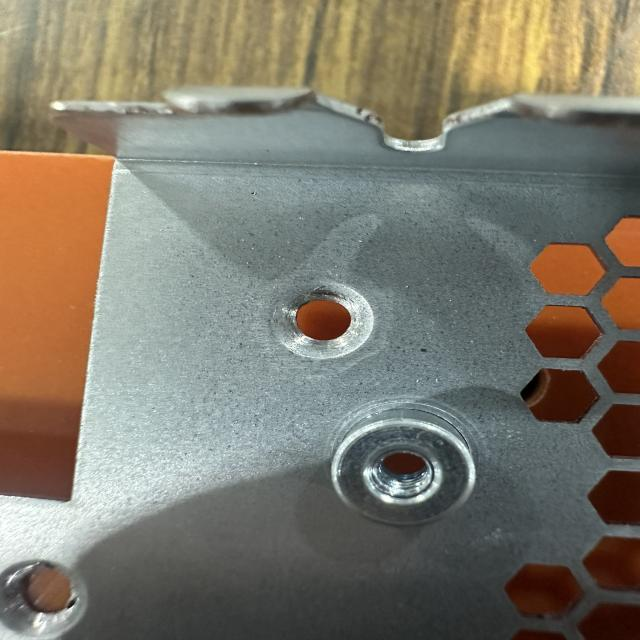Missing screw: (261, 276, 378, 367)
